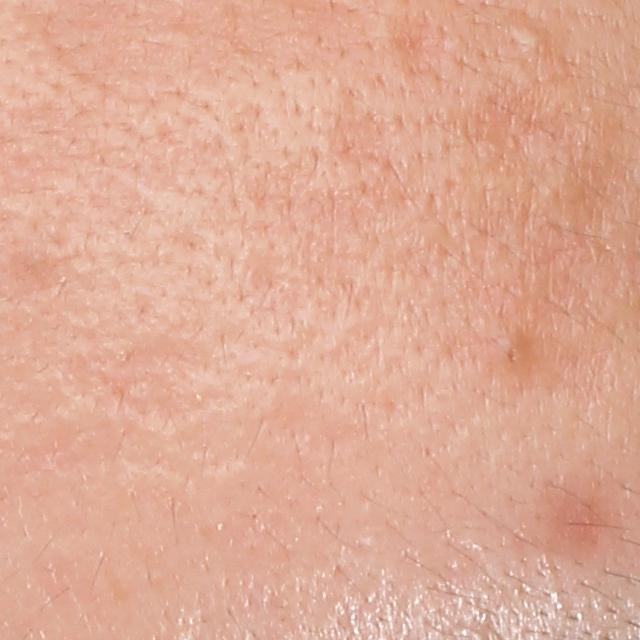atrophic_scar: (70, 339, 209, 425), (457, 85, 554, 157), (321, 106, 398, 163), (388, 6, 445, 78)
comedo: (509, 16, 552, 53), (495, 330, 531, 374)
